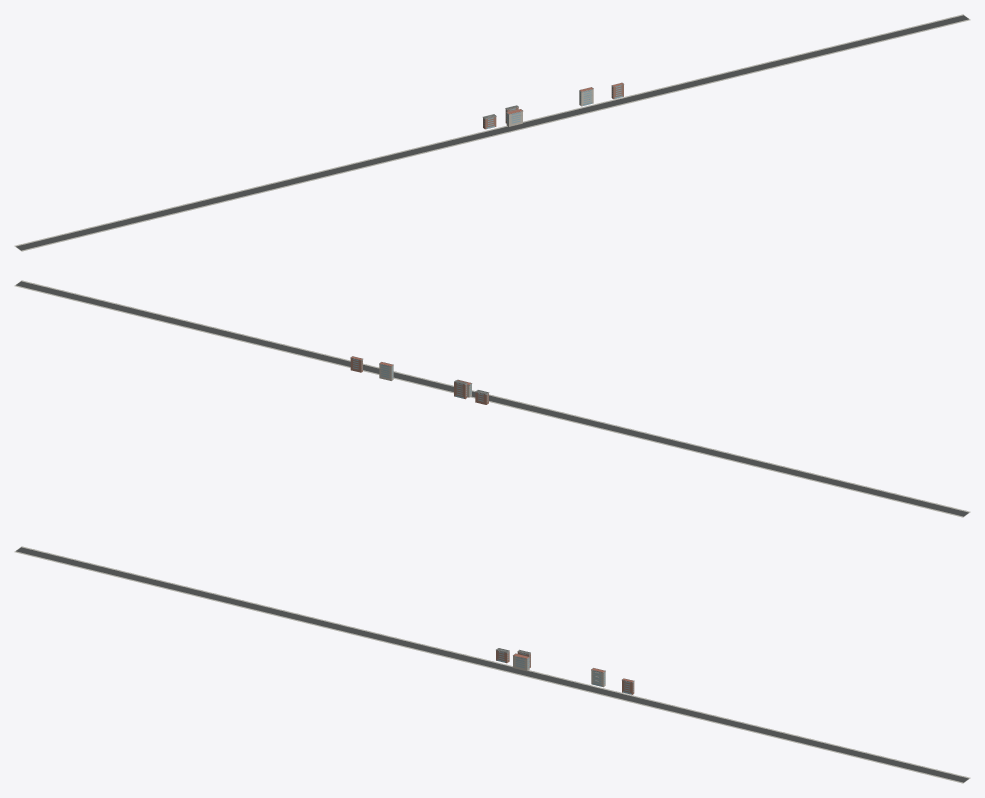
3 renders of one model, top to bottom at view 1: azimuth 30°, elevation 25°; view 2: azimuth 150°, elevation 25°; view 3: azimuth 330°, elevation 25°, orthographic.
Parts seen in each view (by area): view 1: road-h-0-mesh-1, road-h-0-mesh-0; view 2: road-h-0-mesh-1, road-h-0-mesh-0; view 3: road-h-0-mesh-1, road-h-0-mesh-0.
Part boxes in pixels (bbox=[...]): road-h-0-mesh-1: bbox=[16, 15, 968, 250]; road-h-0-mesh-0: bbox=[14, 14, 970, 251]; road-h-0-mesh-1: bbox=[16, 281, 968, 516]; road-h-0-mesh-0: bbox=[14, 280, 970, 517]; road-h-0-mesh-1: bbox=[16, 547, 968, 782]; road-h-0-mesh-0: bbox=[14, 546, 970, 783].
Bounding box in the file's own units: 1605 × 24.03 × 34.79.
